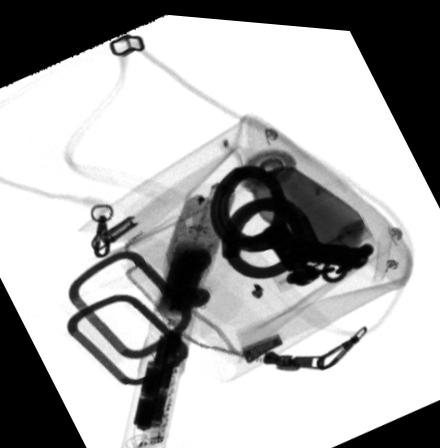Baton: (122, 179, 235, 448)
HandCuffs: (208, 158, 375, 280)
